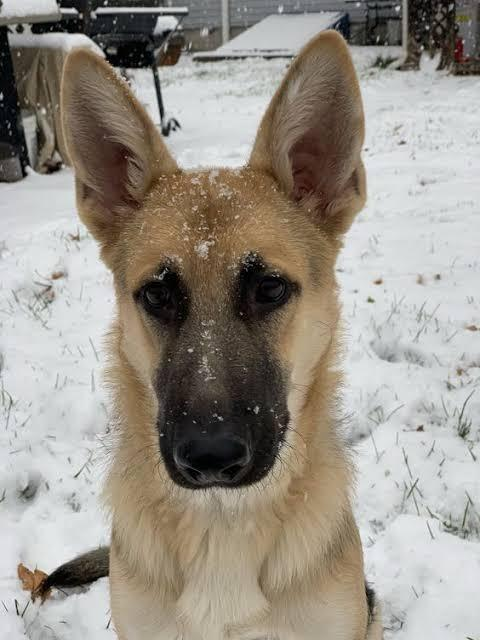puppy-dog: (21, 27, 385, 640)
